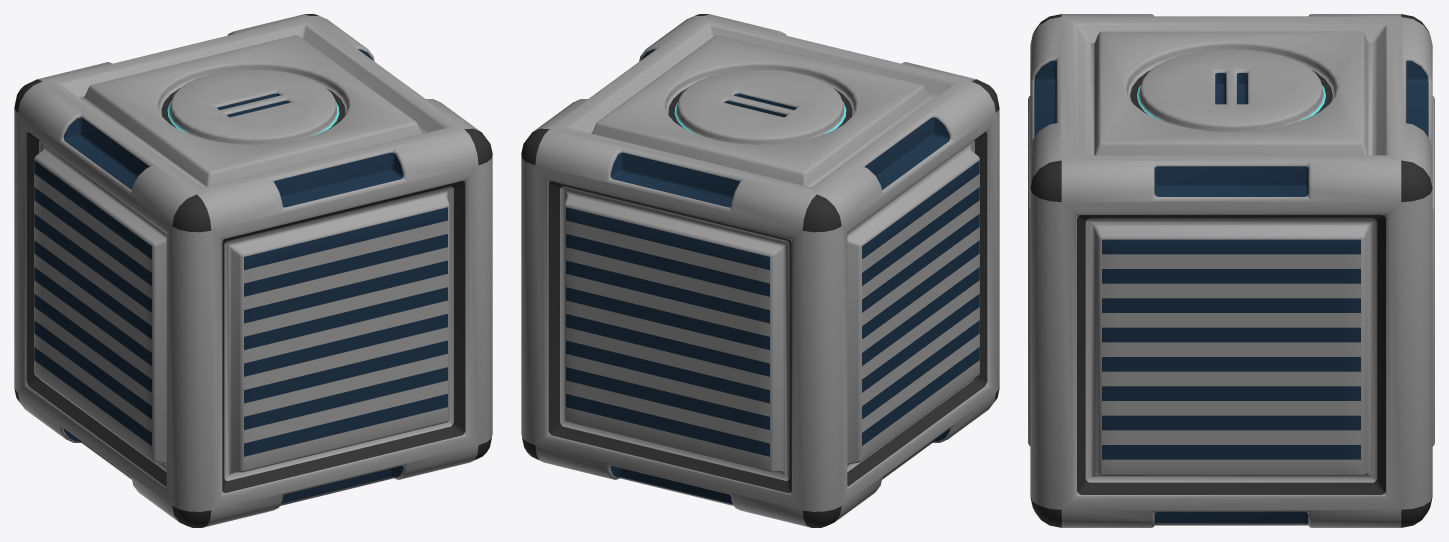
File: room1_box (1).fbx
The picture shows the model from 3 angles, left to right: view 1: azimuth 30°, elevation 25°; view 2: azimuth 150°, elevation 25°; view 3: azimuth 270°, elevation 25°; orthographic projection. The views are drawn at different scales.
Parts seen in each view (by area): view 1: Box, BoxDoor; view 2: Box, BoxDoor; view 3: Box, BoxDoor.
Boxes of the visible parts, x1,y1,x2,y2 form: Box: [14, 14, 492, 527]; BoxDoor: [79, 35, 422, 187]; Box: [521, 14, 999, 527]; BoxDoor: [591, 35, 934, 187]; Box: [1028, 14, 1434, 527]; BoxDoor: [1090, 31, 1372, 155].
Size of the model in its own units: 202 by 201 by 202.
